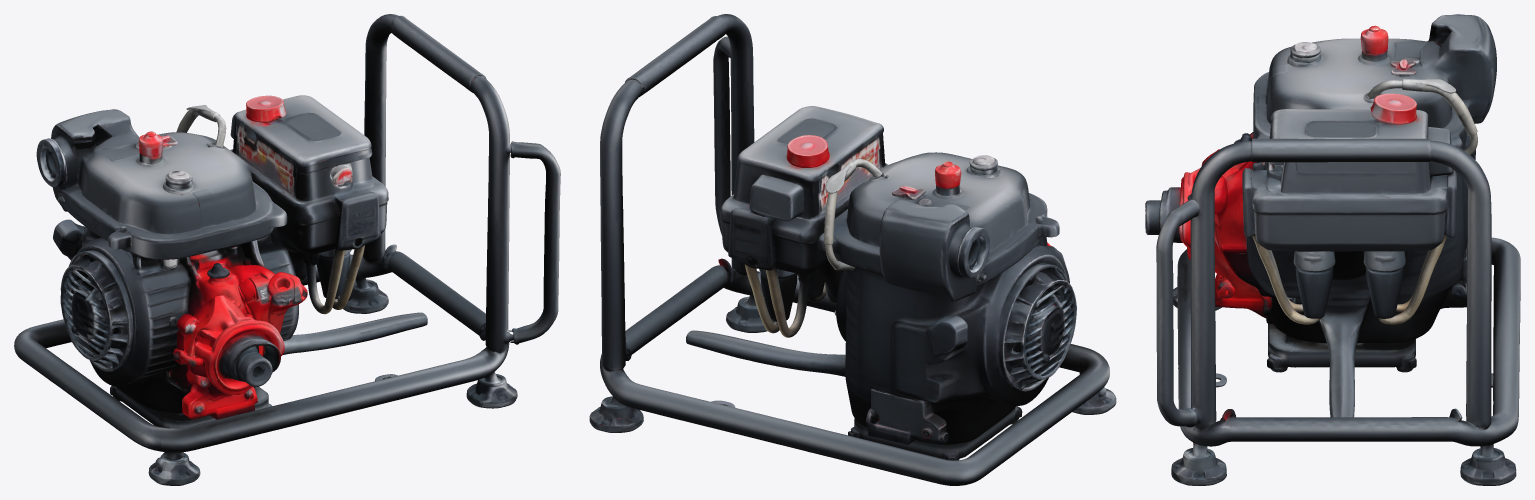
The model's file is motobomba-tripo.glb.
The picture shows the model from 3 angles, left to right: view 1: azimuth 30°, elevation 25°; view 2: azimuth 150°, elevation 25°; view 3: azimuth 270°, elevation 25°; orthographic projection. The views are drawn at different scales.
Visible parts, largest first — view 1: tripo_node_89ff94b0-071d-4f4f-85a5-f64db206b2ef; view 2: tripo_node_89ff94b0-071d-4f4f-85a5-f64db206b2ef; view 3: tripo_node_89ff94b0-071d-4f4f-85a5-f64db206b2ef.
Part boxes in pixels (left/top/right/bottom): tripo_node_89ff94b0-071d-4f4f-85a5-f64db206b2ef: left=14, top=14, right=560, bottom=485; tripo_node_89ff94b0-071d-4f4f-85a5-f64db206b2ef: left=589, top=14, right=1116, bottom=485; tripo_node_89ff94b0-071d-4f4f-85a5-f64db206b2ef: left=1145, top=14, right=1520, bottom=485.
Bounding box in the file's own units: 1 × 0.7234 × 0.7227.
Materials: 1 (1 with a texture image).
